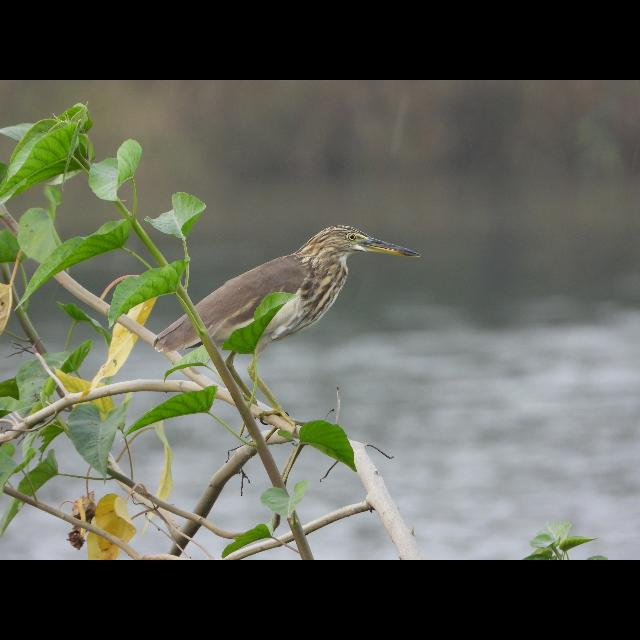heron: (154, 216, 430, 424)
